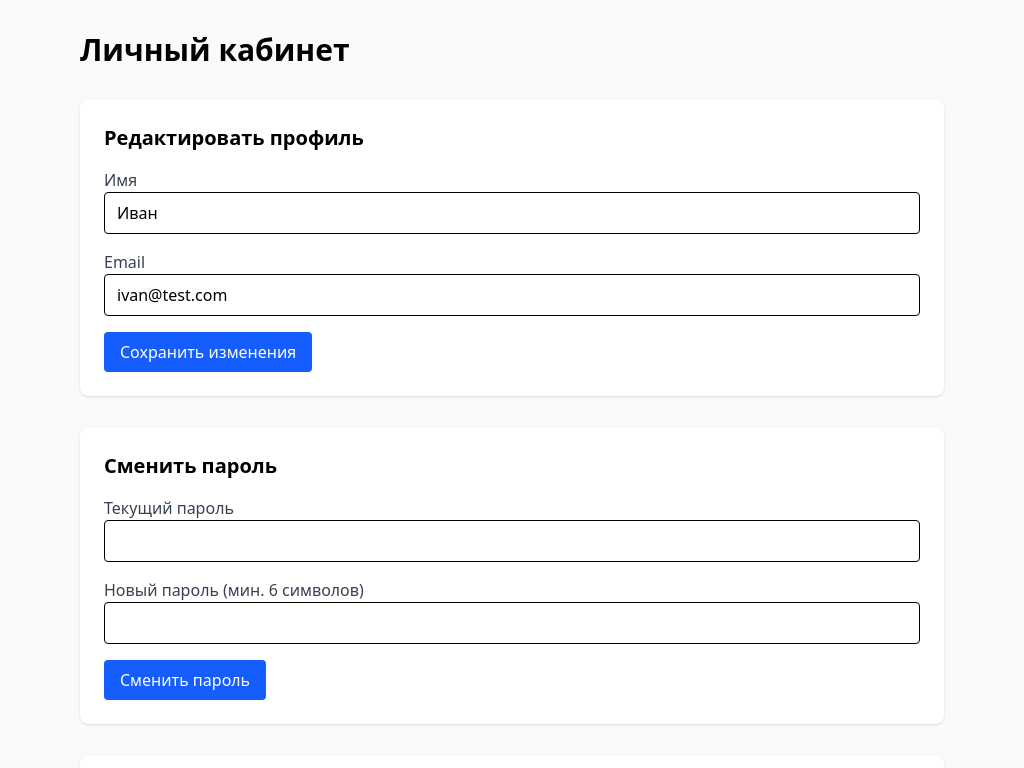
Test: ProfilePage › updates profile successfully
Replace the text in the field labelled "Имя" with "Петр" at (512, 213), box x1=104 y1=192 x2=920 y2=234
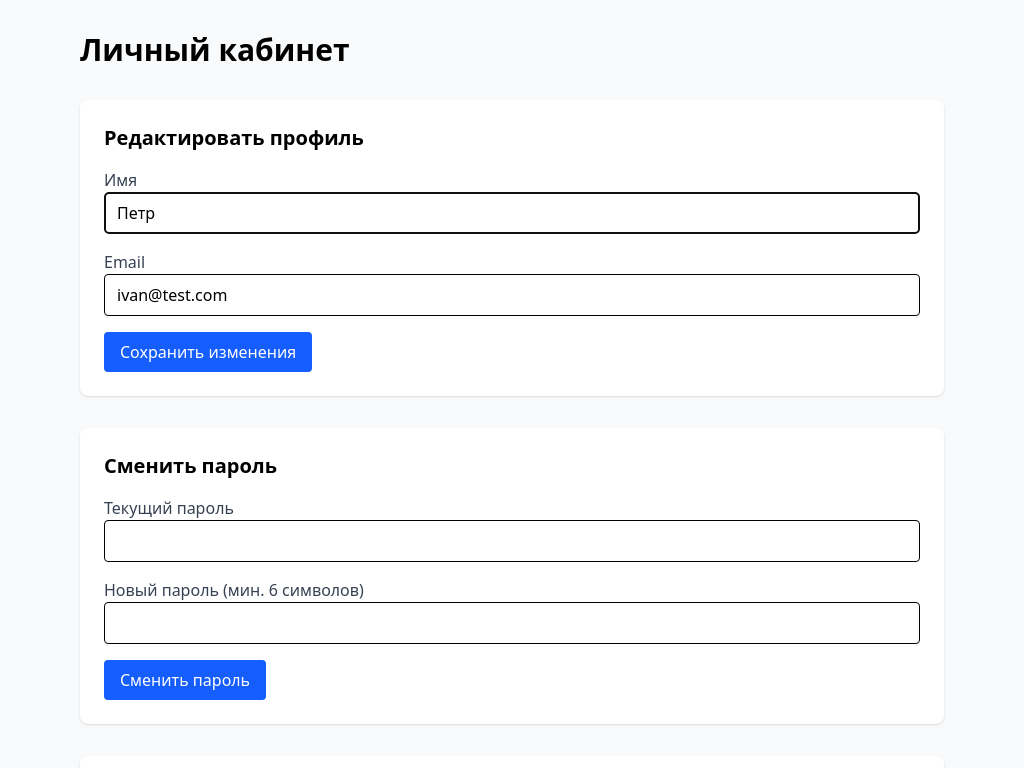
Click the button "Сохранить изменения" at (208, 352), box x1=104 y1=332 x2=312 y2=372
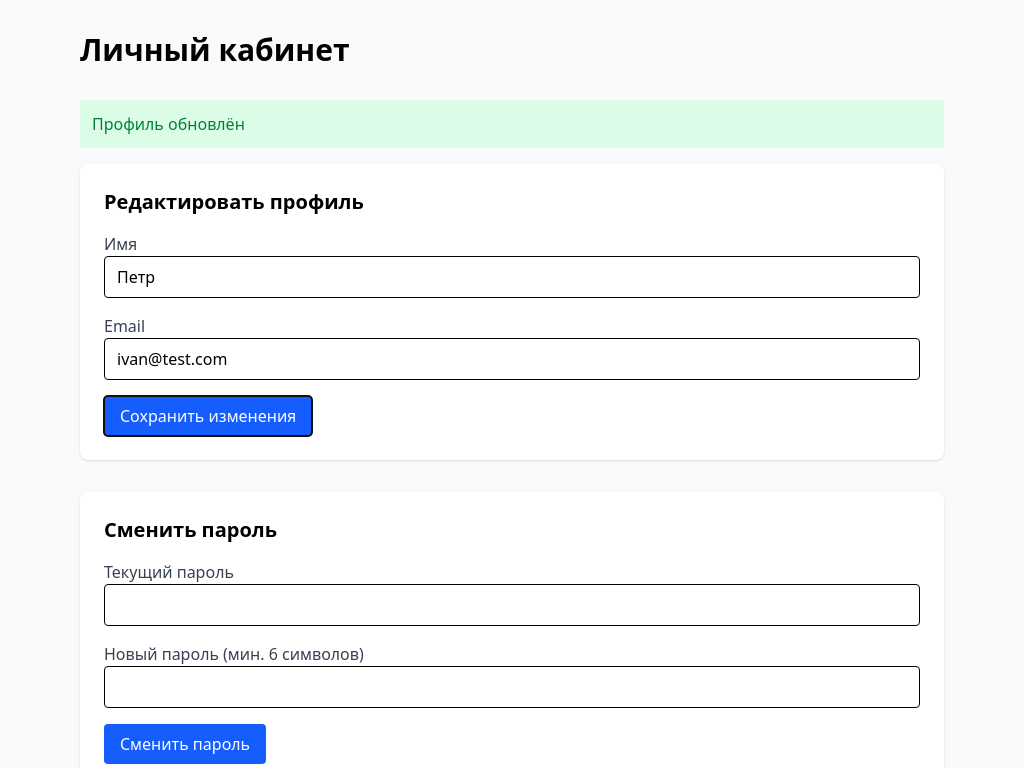
Expected: the text "Профиль обновлён" is shown, x1=80 y1=100 x2=944 y2=148
